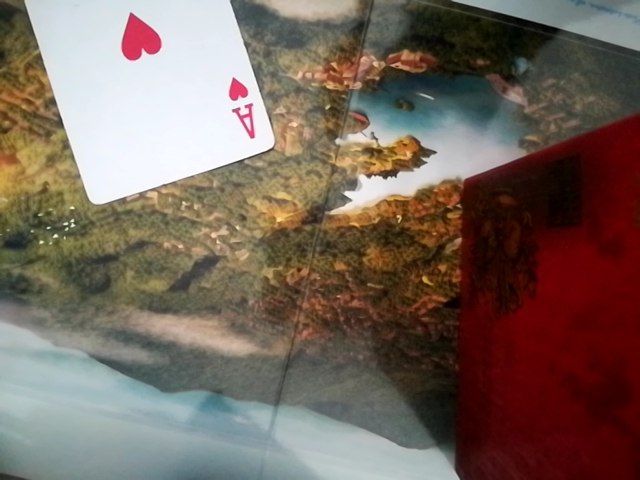hx a: (13, 2, 270, 208)
